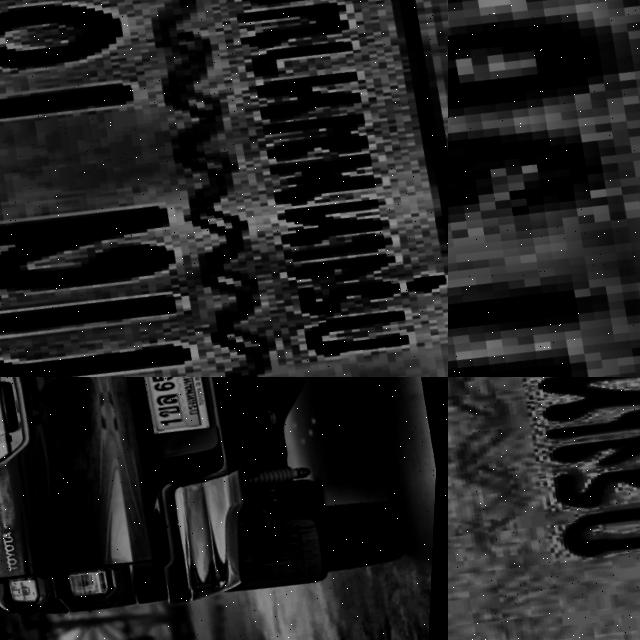license-plate: (0, 0, 448, 377), (448, 0, 640, 377), (448, 377, 640, 640), (124, 377, 232, 439)
